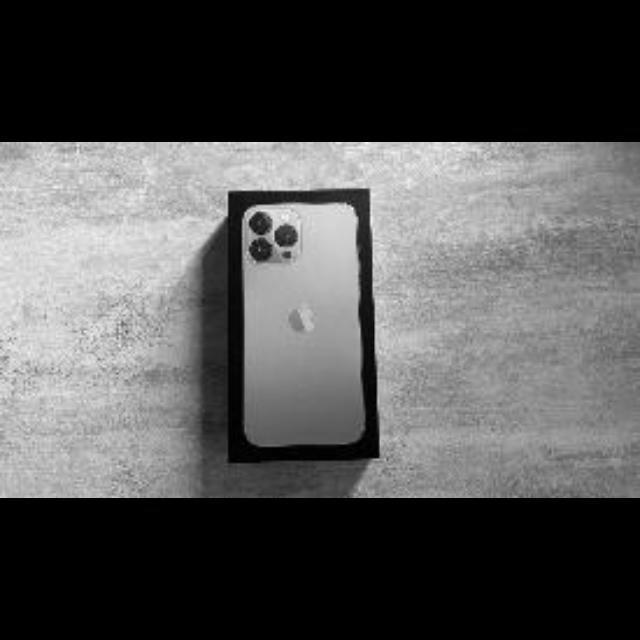fake: (228, 190, 376, 458)
